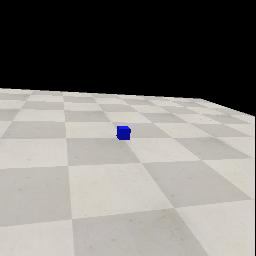box: (116, 126, 131, 140)
